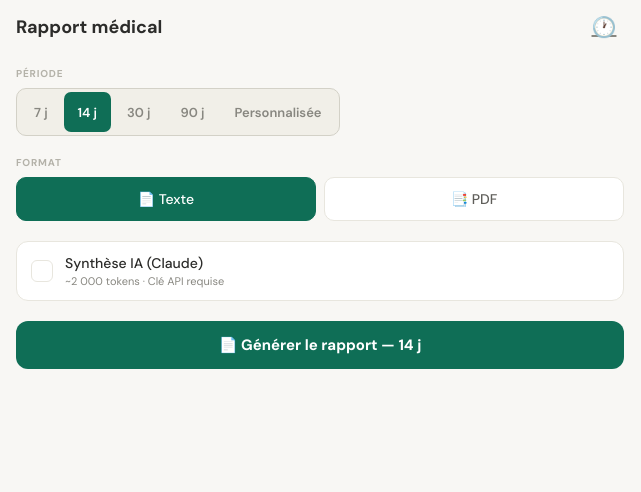
Test: ReportBuilderComponent › période personnalisée › masque les inputs de date quand un preset numérique est sélectionné
The image size is (641, 492).
Click the button with test id "window-custom" at [278, 112], box [220, 92, 336, 132]
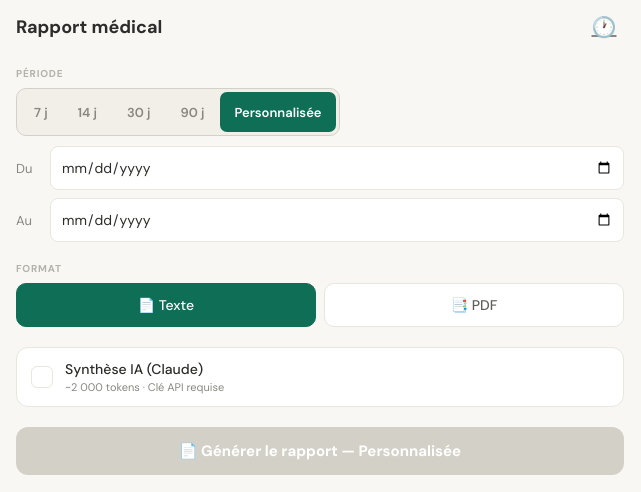
Click the button with test id "window-7" at [41, 112], box [20, 92, 62, 132]
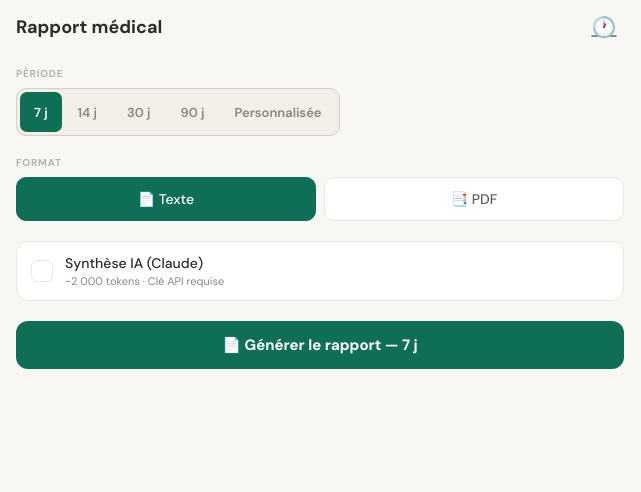
Result: the element with test id "custom-range-inputs" is gone
